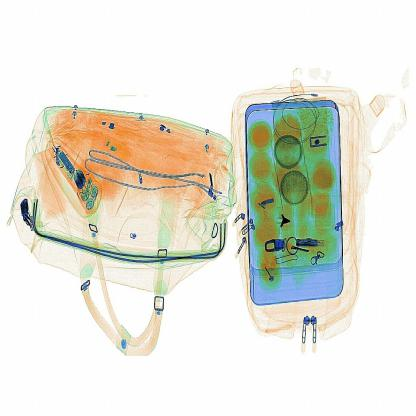gun: (268, 204, 295, 235)
